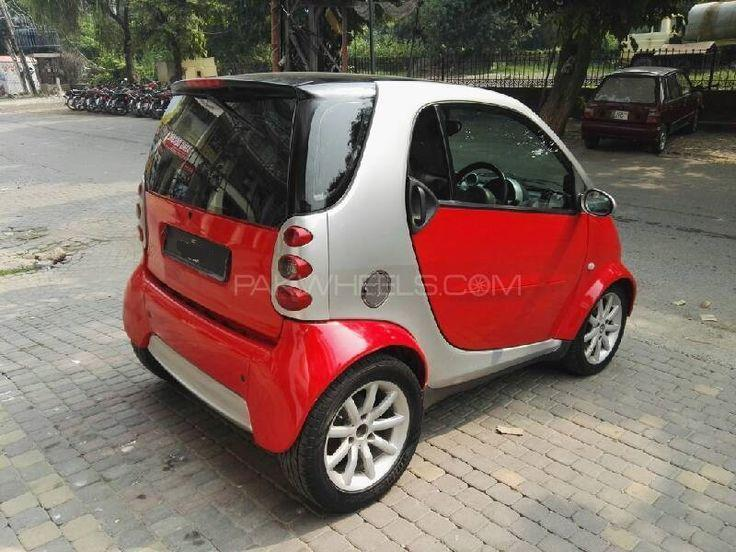Hatchback: (100, 50, 647, 527)
